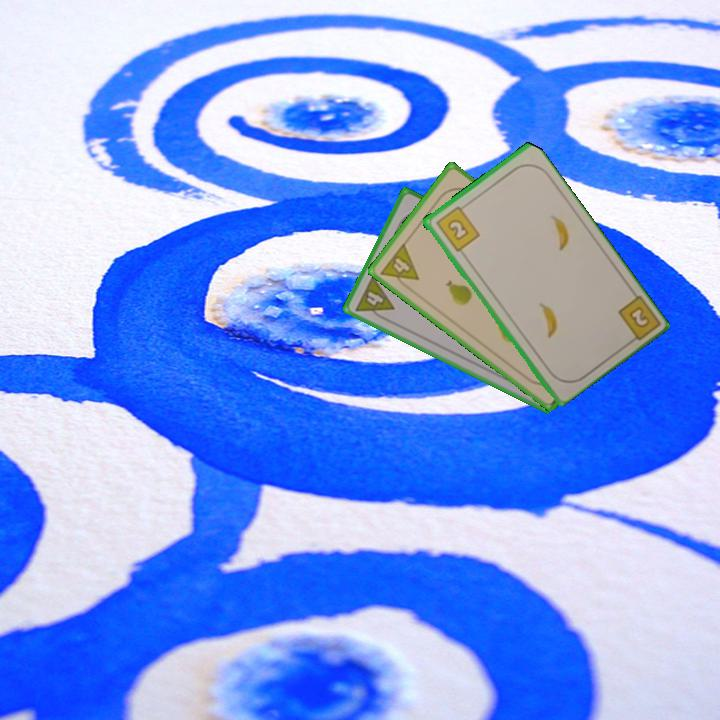2b: (432, 201, 482, 255), (614, 291, 661, 348)
4p: (376, 239, 422, 294), (351, 272, 397, 325)
